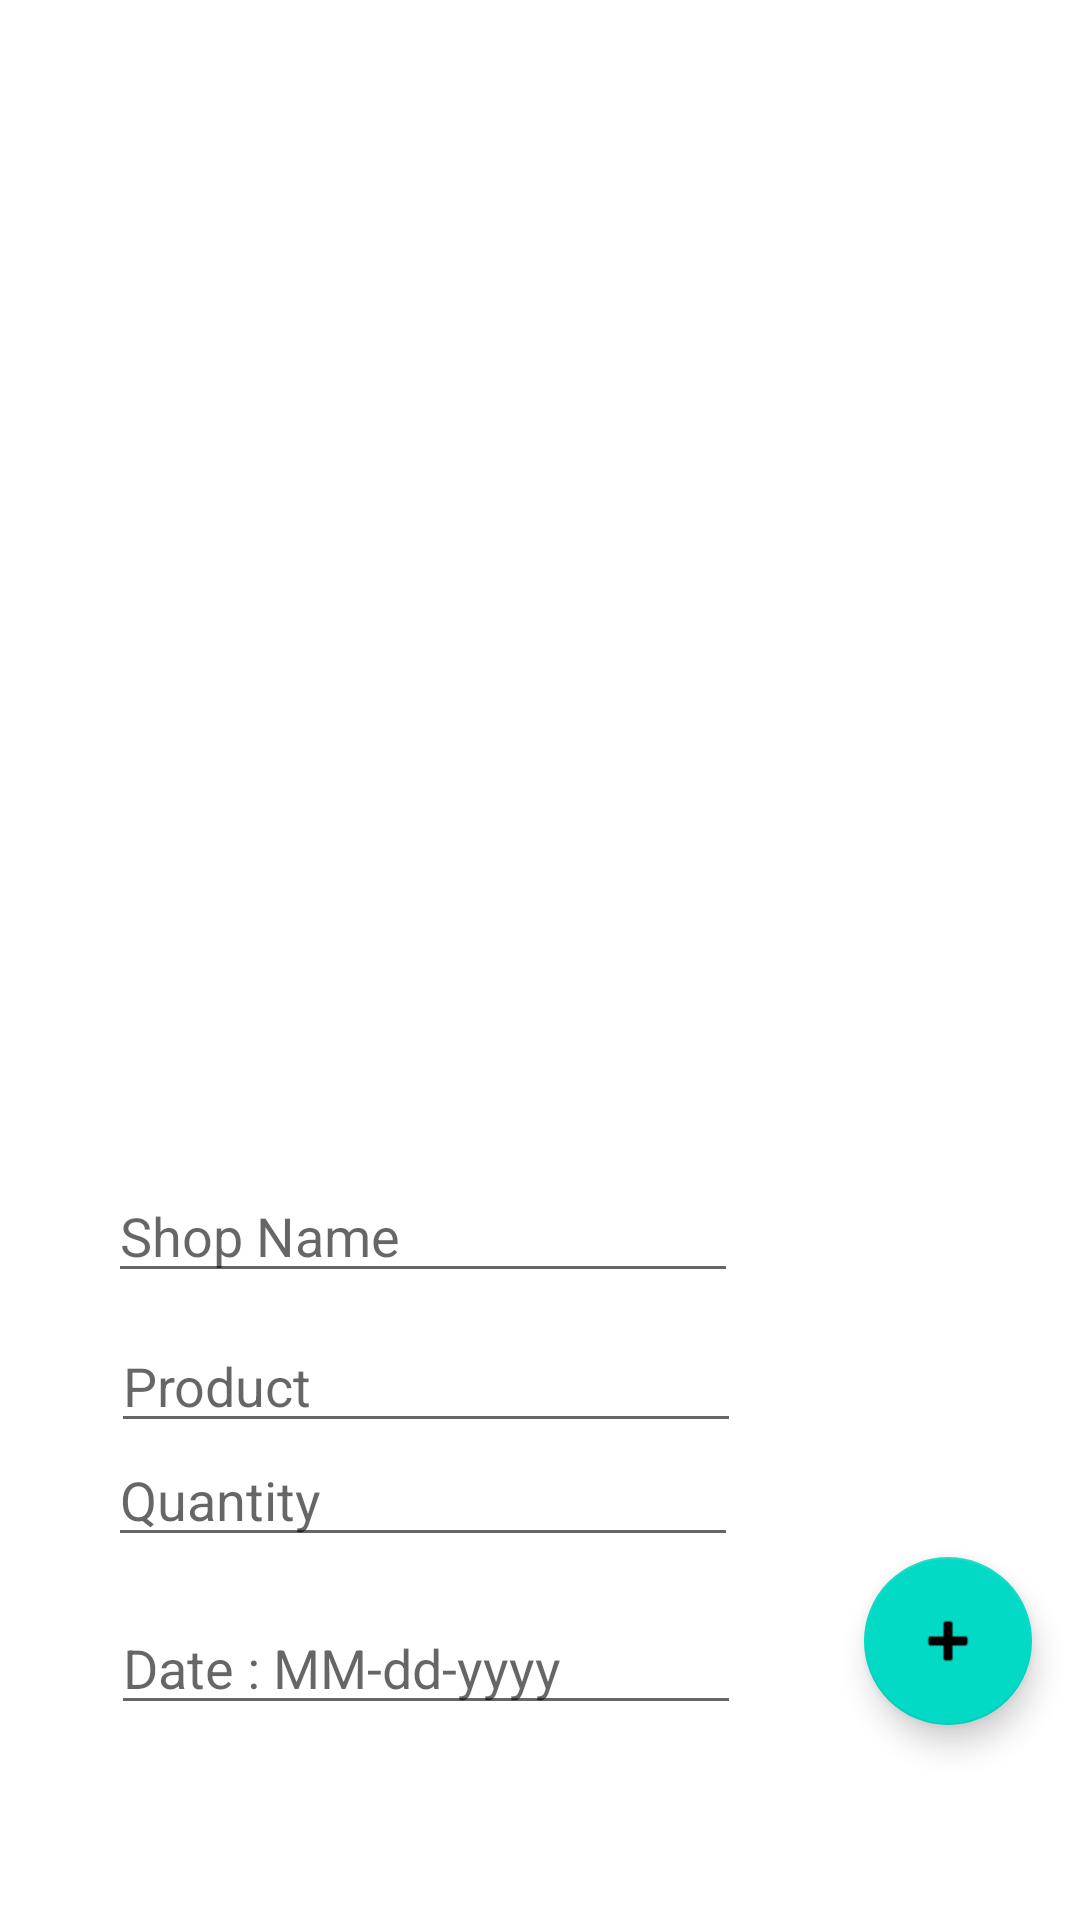

Where icons sit on this 1080×1920 app screen, as Rect(x1, y1, x2, y2):
add: Rect(864, 1557, 1032, 1725)
